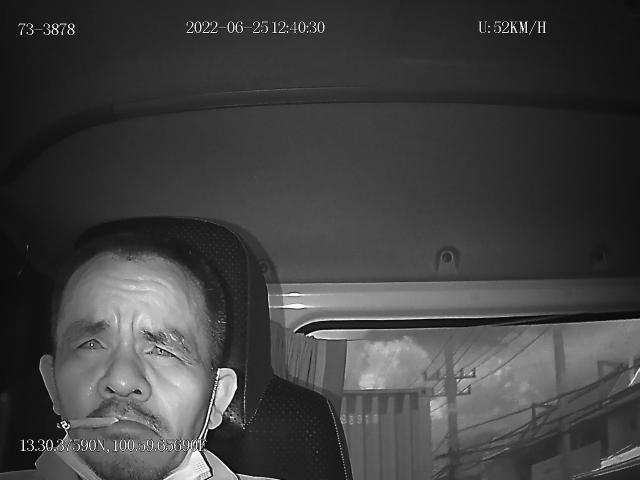SafeDriving: (140, 328, 187, 368), (70, 324, 112, 362)
Smoking: (59, 414, 119, 430)
